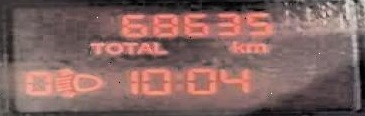0: (185, 66, 217, 95), (139, 67, 168, 95), (22, 70, 51, 95)
1: (125, 67, 140, 94)
3: (213, 11, 244, 36)
4: (217, 67, 253, 94)
5: (245, 11, 272, 36)
6: (116, 12, 145, 38), (180, 12, 209, 36)
8: (149, 11, 179, 36)
X: (244, 41, 267, 53), (86, 41, 105, 55), (105, 40, 121, 55), (229, 39, 246, 53), (149, 40, 166, 54), (172, 70, 182, 93), (121, 40, 135, 55), (135, 40, 149, 55)
